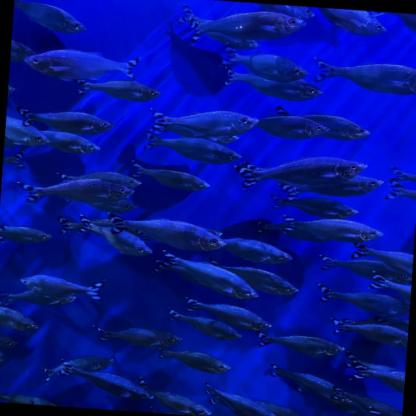fish: (173, 4, 303, 46), (248, 148, 362, 189), (108, 213, 222, 254), (314, 58, 415, 104), (155, 252, 255, 298), (25, 42, 135, 83), (259, 211, 386, 245), (181, 295, 282, 334), (275, 106, 376, 144), (10, 173, 134, 203), (144, 133, 243, 169), (286, 170, 387, 205), (318, 282, 410, 319), (319, 252, 413, 288), (161, 308, 254, 344), (225, 68, 326, 101), (12, 0, 94, 40), (77, 218, 158, 258), (153, 104, 253, 136), (268, 361, 342, 401), (94, 322, 188, 353), (22, 104, 117, 134), (217, 50, 306, 82), (77, 371, 156, 407), (304, 6, 392, 38), (338, 319, 408, 358), (74, 75, 159, 107), (203, 384, 287, 416), (219, 235, 300, 268), (259, 327, 339, 360), (233, 261, 304, 298), (23, 274, 114, 302), (275, 193, 369, 219), (163, 344, 239, 376), (352, 239, 414, 276), (134, 162, 209, 192), (255, 110, 321, 142), (34, 125, 101, 156), (46, 349, 116, 378), (63, 167, 146, 190), (0, 291, 44, 334), (354, 352, 406, 388), (0, 218, 57, 245), (340, 391, 404, 415), (4, 115, 50, 144), (157, 394, 217, 416), (374, 275, 411, 305), (374, 180, 416, 206), (238, 2, 311, 16), (384, 12, 416, 43), (384, 168, 416, 191), (10, 35, 35, 64), (0, 333, 16, 368), (2, 150, 26, 172), (7, 74, 18, 98)
